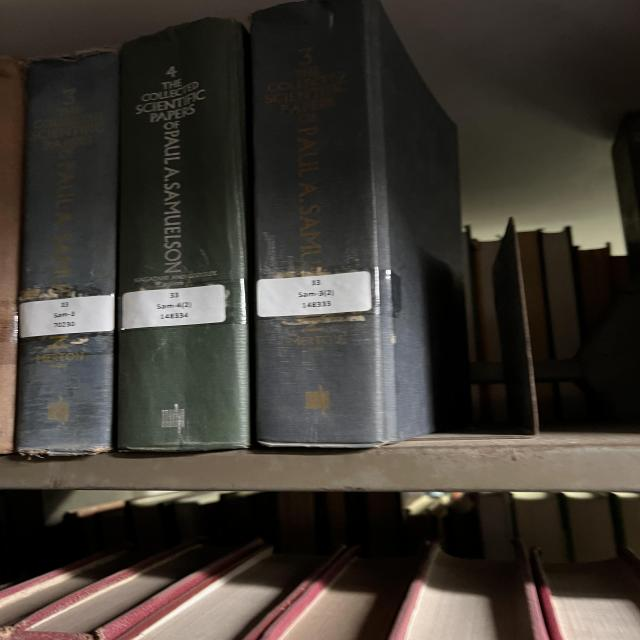Book: (252, 0, 468, 448), (117, 18, 250, 451), (15, 52, 118, 455)
Label: (257, 271, 372, 318), (122, 285, 227, 329), (20, 295, 115, 338), (77, 305, 78, 308)
